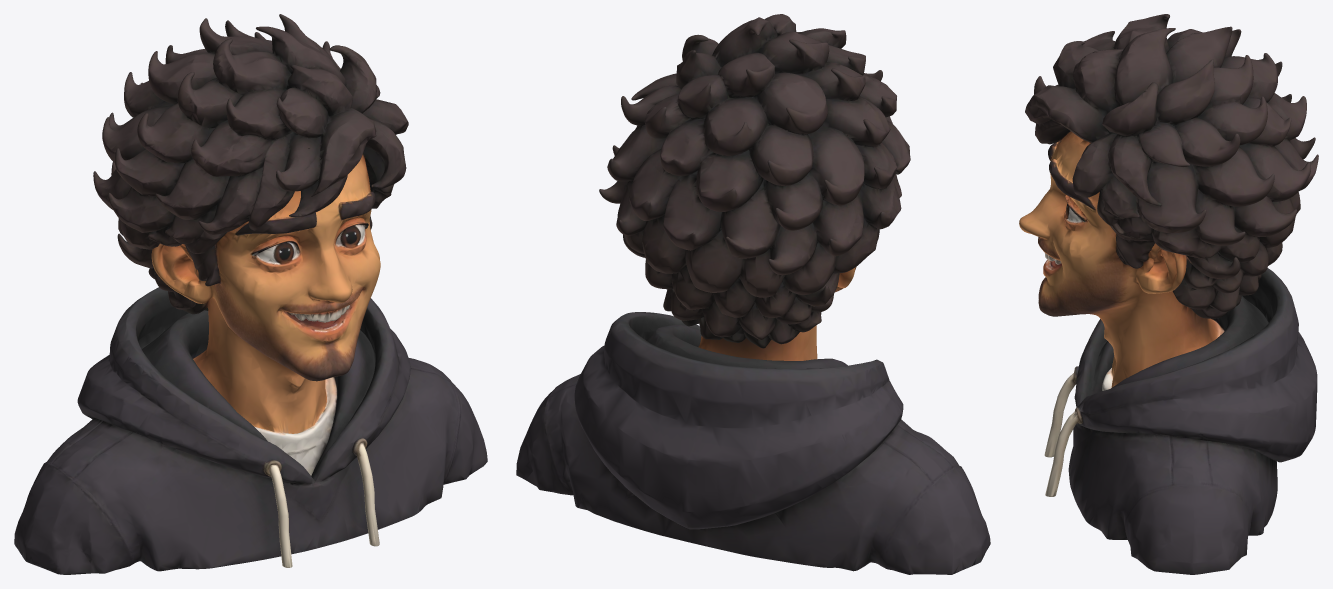
Rendered from kabir.glb.
3 renders of one model, left to right at view 1: azimuth 30°, elevation 25°; view 2: azimuth 150°, elevation 25°; view 3: azimuth 270°, elevation 25°, orthographic. The views are drawn at different scales.
Visible parts, largest first — view 1: tripo_node_4f6b7594-ed89-4ca2-b9ba-5f14574ecdd9; view 2: tripo_node_4f6b7594-ed89-4ca2-b9ba-5f14574ecdd9; view 3: tripo_node_4f6b7594-ed89-4ca2-b9ba-5f14574ecdd9.
Boxes of the visible parts, x1=… form: tripo_node_4f6b7594-ed89-4ca2-b9ba-5f14574ecdd9: x1=14, y1=14, x2=487, y2=574; tripo_node_4f6b7594-ed89-4ca2-b9ba-5f14574ecdd9: x1=516, y1=14, x2=990, y2=574; tripo_node_4f6b7594-ed89-4ca2-b9ba-5f14574ecdd9: x1=1019, y1=14, x2=1318, y2=574.
Bounding box in the file's own units: 0.9904 × 0.9999 × 0.6084.
Materials: 1 (1 with a texture image).
